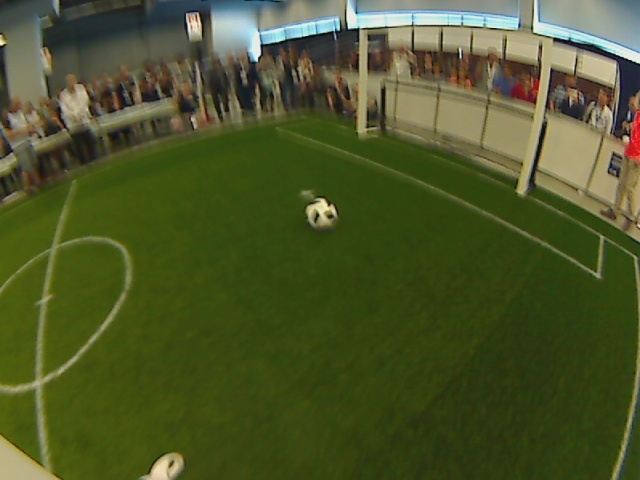ball: (304, 195, 338, 230)
